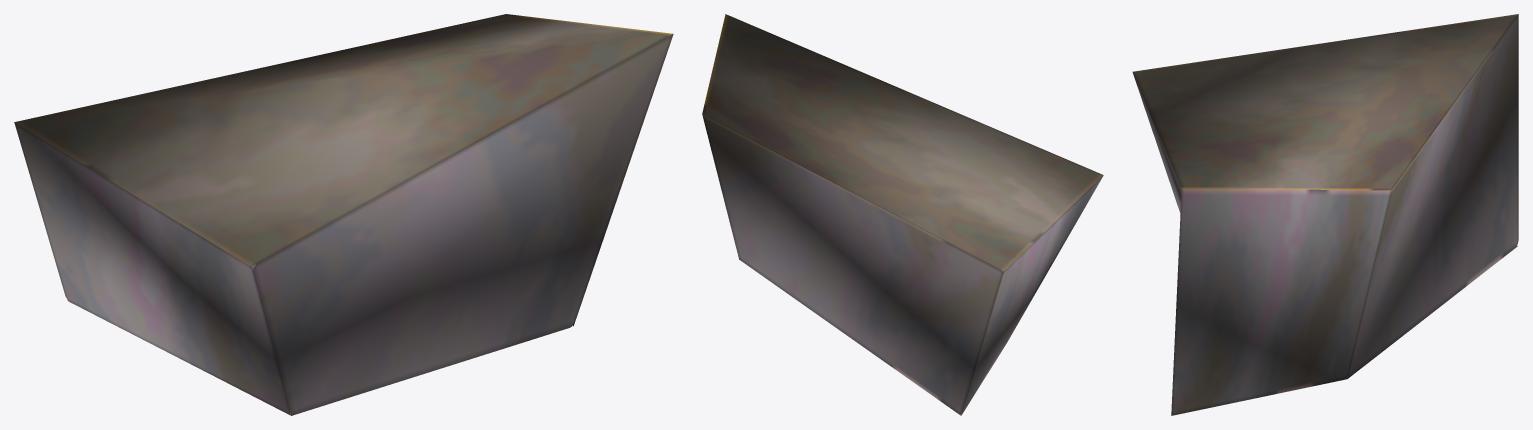
3 renders of one model, left to right at view 1: azimuth 30°, elevation 25°; view 2: azimuth 150°, elevation 25°; view 3: azimuth 270°, elevation 25°, orthographic. The views are drawn at different scales.
Visible parts, largest first — view 1: T1L3M003_31; view 2: T1L3M003_31; view 3: T1L3M003_31.
Part boxes in pixels (bbox=[...]): T1L3M003_31: bbox=[14, 14, 673, 415]; T1L3M003_31: bbox=[702, 14, 1103, 415]; T1L3M003_31: bbox=[1132, 14, 1518, 415].
Size of the model in its own units: 0.2334 by 0.1357 by 0.1455.
Materials: 1 (1 with a texture image).
